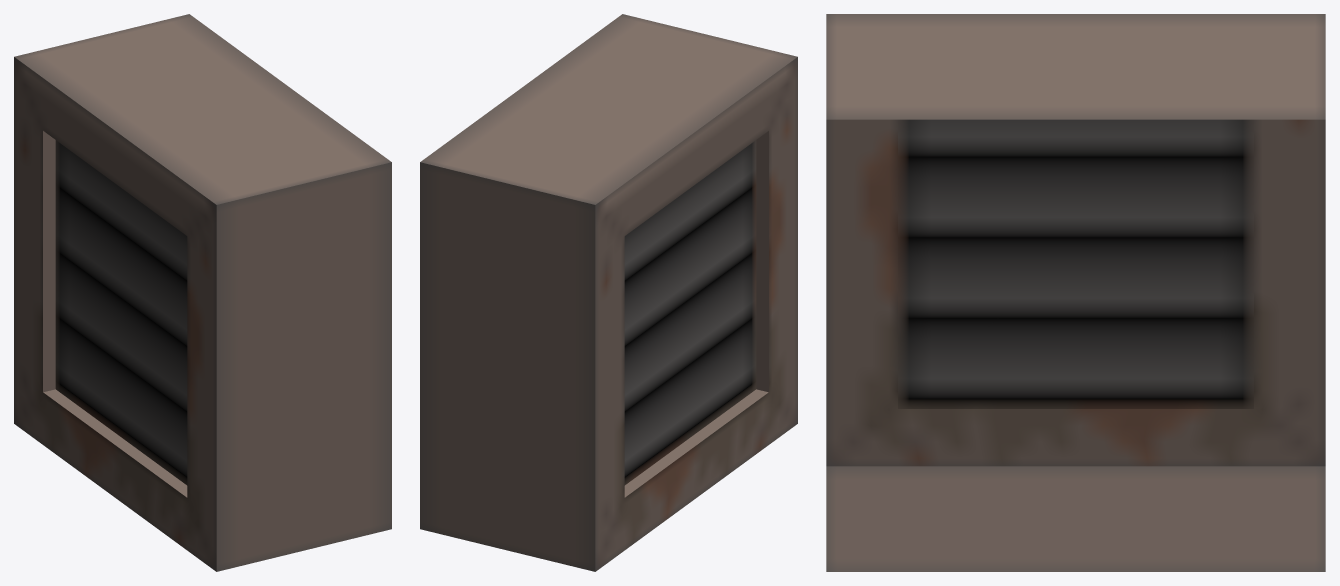
Rendered from obj_airDiffuser.fbx.
3 views of the same model, side by side, from view 1: azimuth 30°, elevation 25°; view 2: azimuth 150°, elevation 25°; view 3: azimuth 270°, elevation 25° (orthographic). The views are drawn at different scales.
Visible parts, largest first — view 1: obj_airDiffuser; view 2: obj_airDiffuser; view 3: obj_airDiffuser.
Boxes of the visible parts, x1=… form: obj_airDiffuser: x1=14, y1=14, x2=391, y2=571; obj_airDiffuser: x1=420, y1=14, x2=797, y2=571; obj_airDiffuser: x1=826, y1=14, x2=1325, y2=571.
Size of the model in its own units: 15 by 30 by 30.
